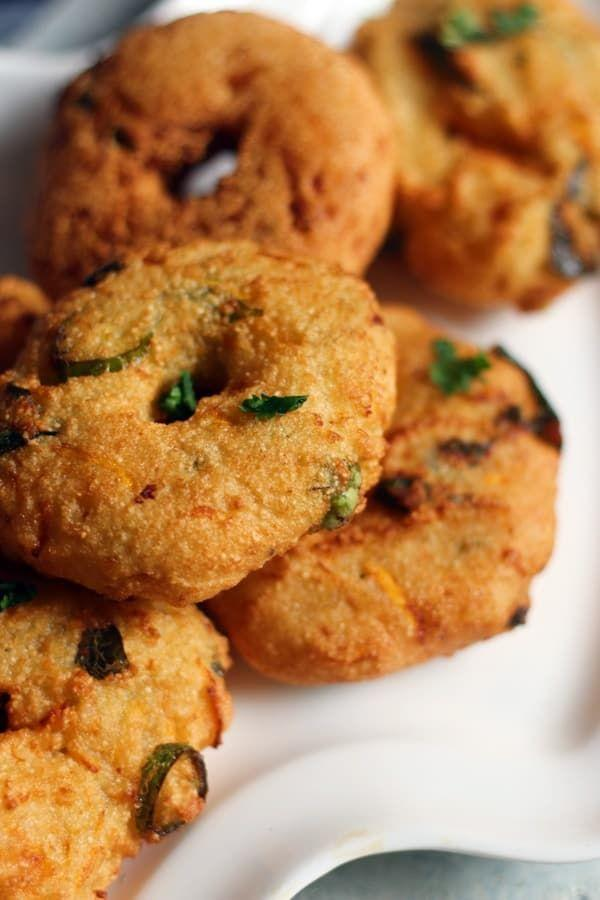medu vada: (19, 3, 600, 900)
